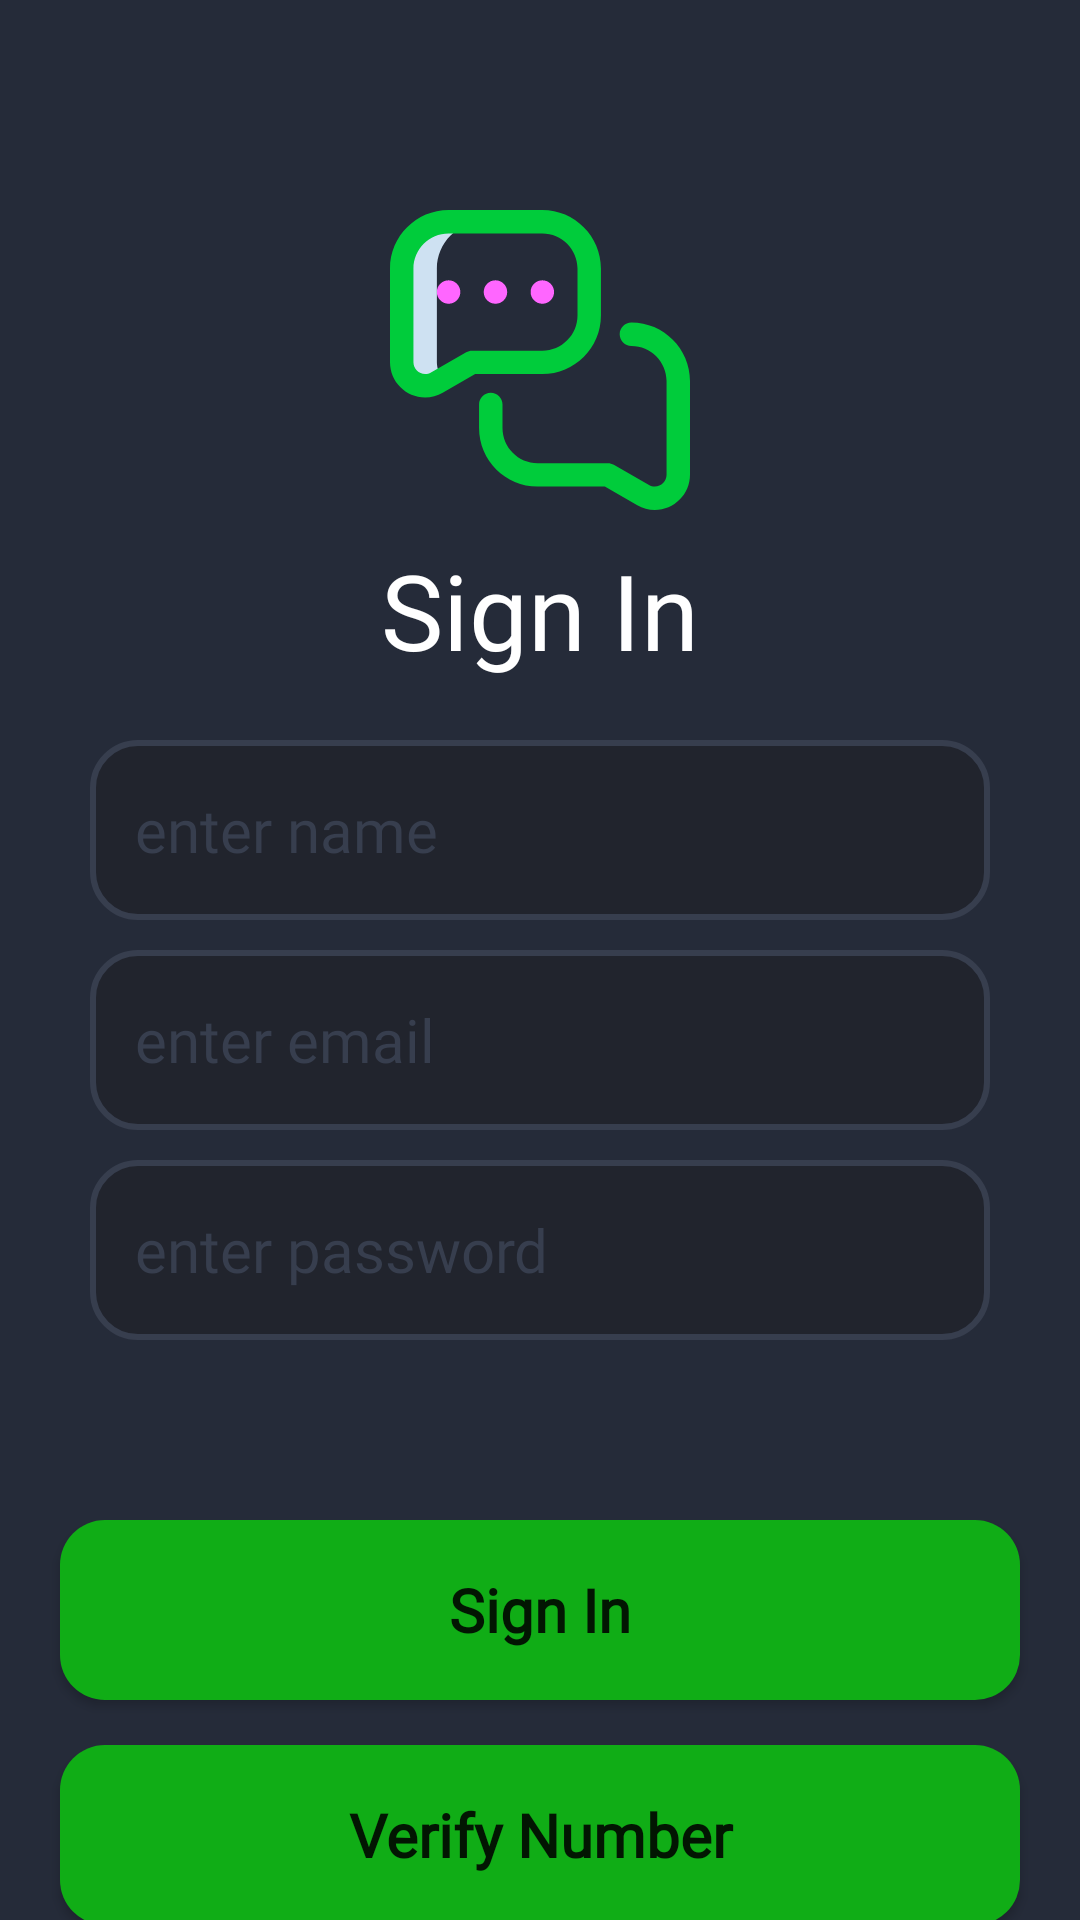

Icons on this 1080×1920 Android screen, each with the point to tap as (x,y):
conversation: (540,360)
